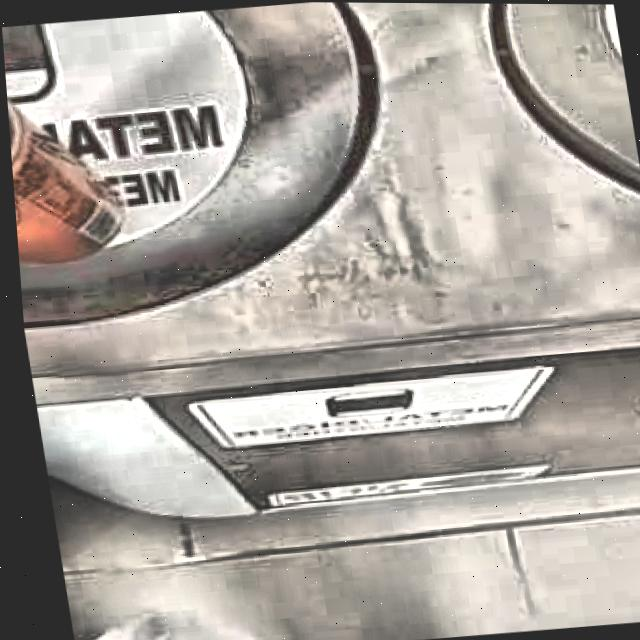metal: (6, 105, 120, 263)
